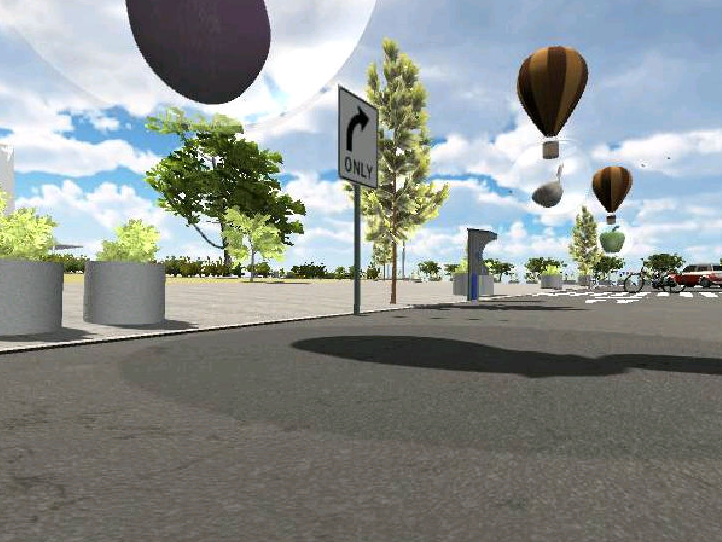arrow_right: (343, 105, 371, 153)
